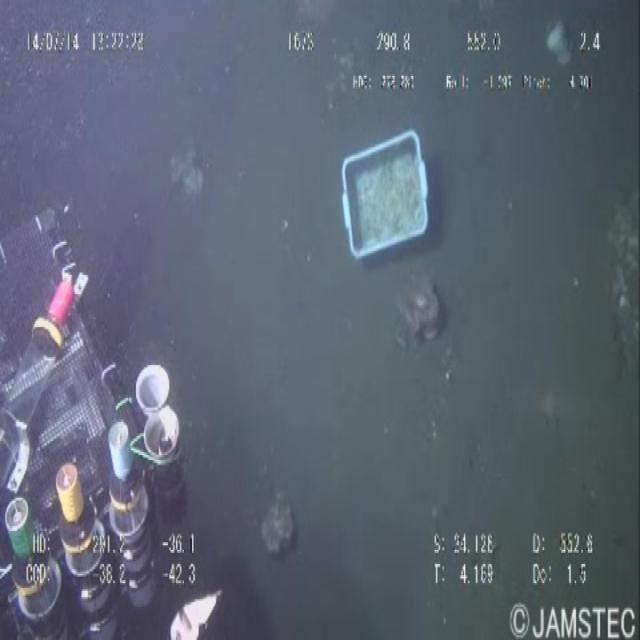Cutlery: (331, 130, 442, 267)
